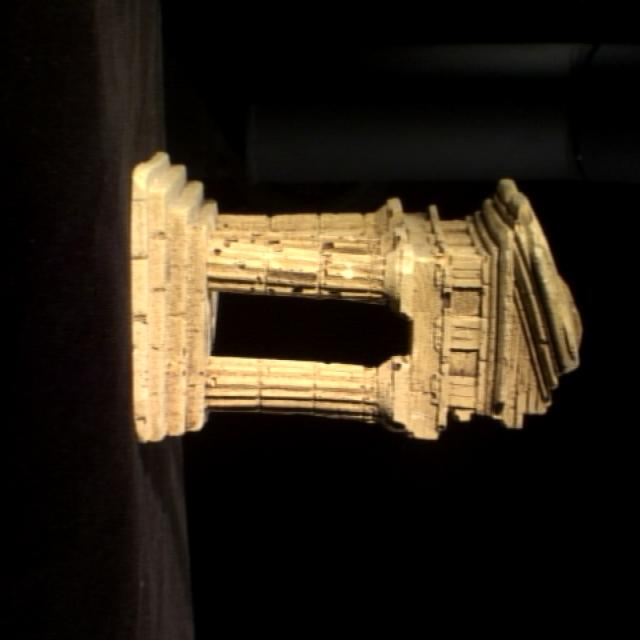Instance-Segmentation: (128, 152, 581, 440)
